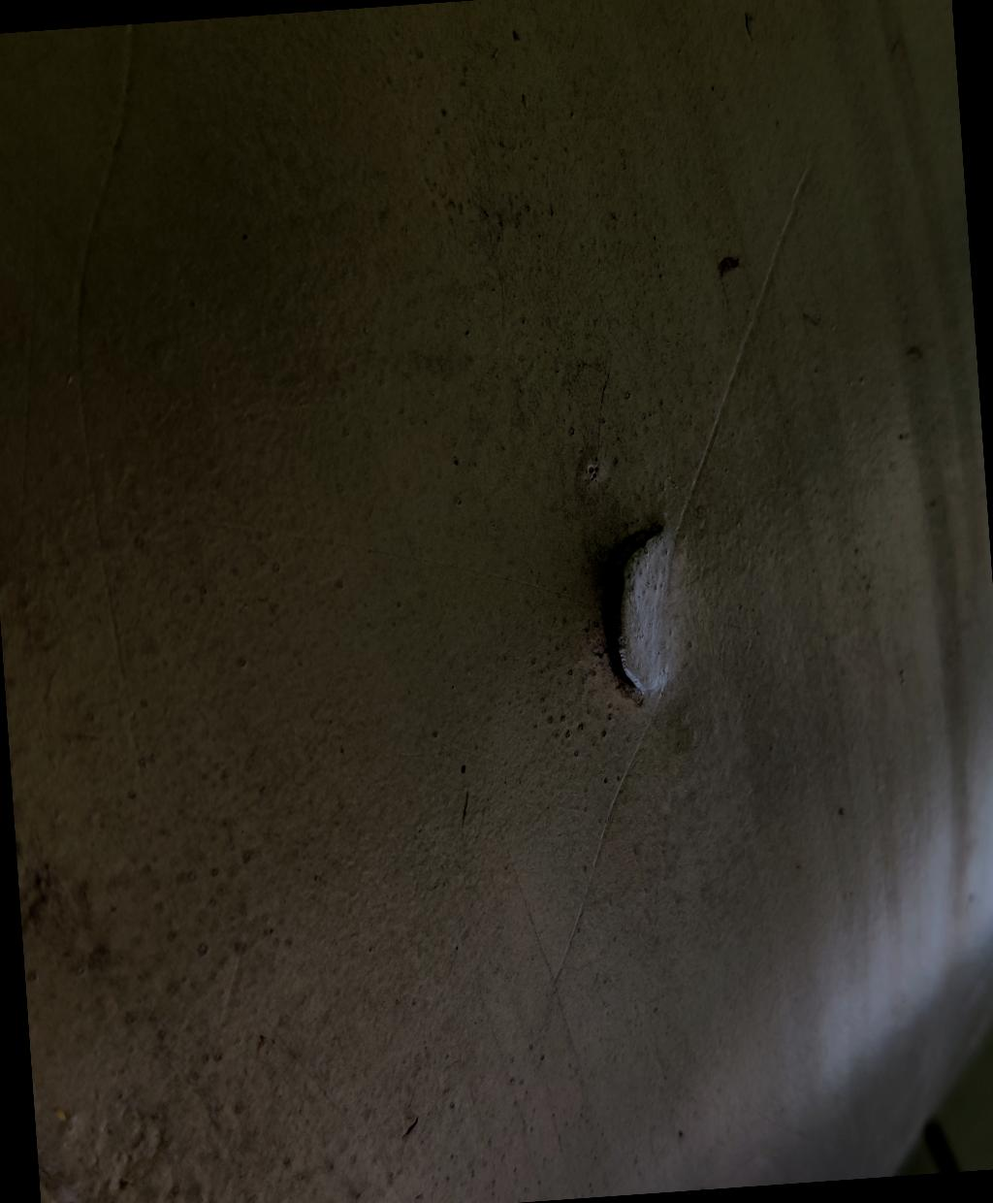crack: (562, 479, 745, 735)
